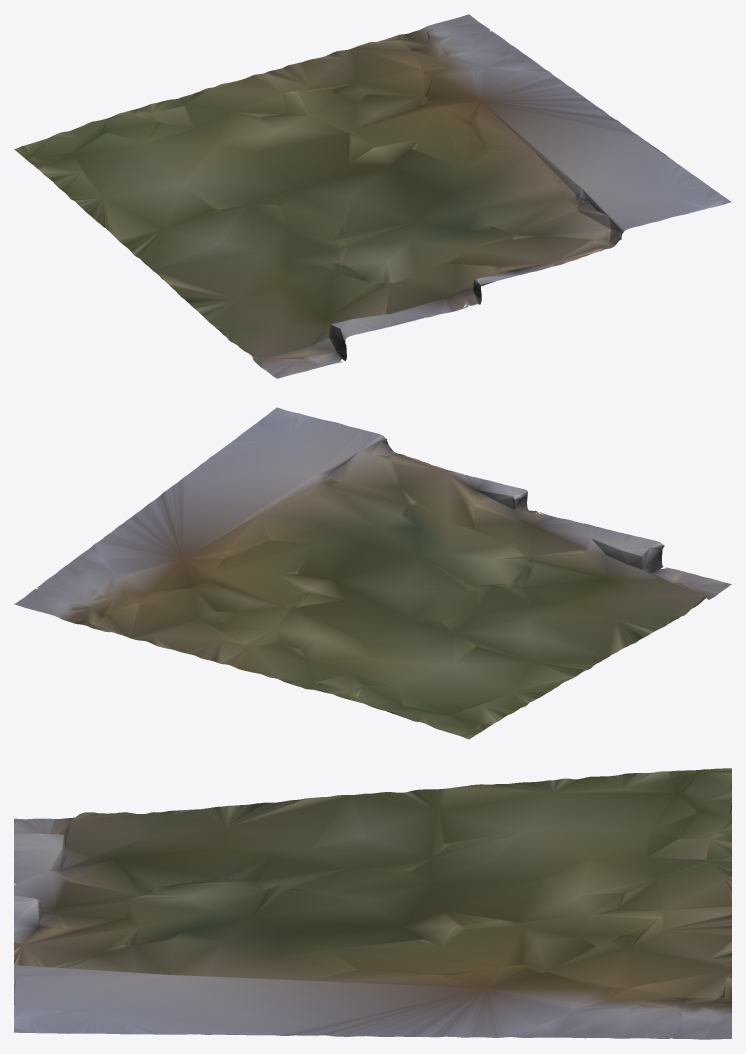
Rendered from coarse.glb.
3 renders of one model, top to bottom at view 1: azimuth 30°, elevation 25°; view 2: azimuth 150°, elevation 25°; view 3: azimuth 270°, elevation 25°, orthographic. The views are drawn at different scales.
Bounding box in the file's own units: 3.6 × 0.4988 × 3.6.
